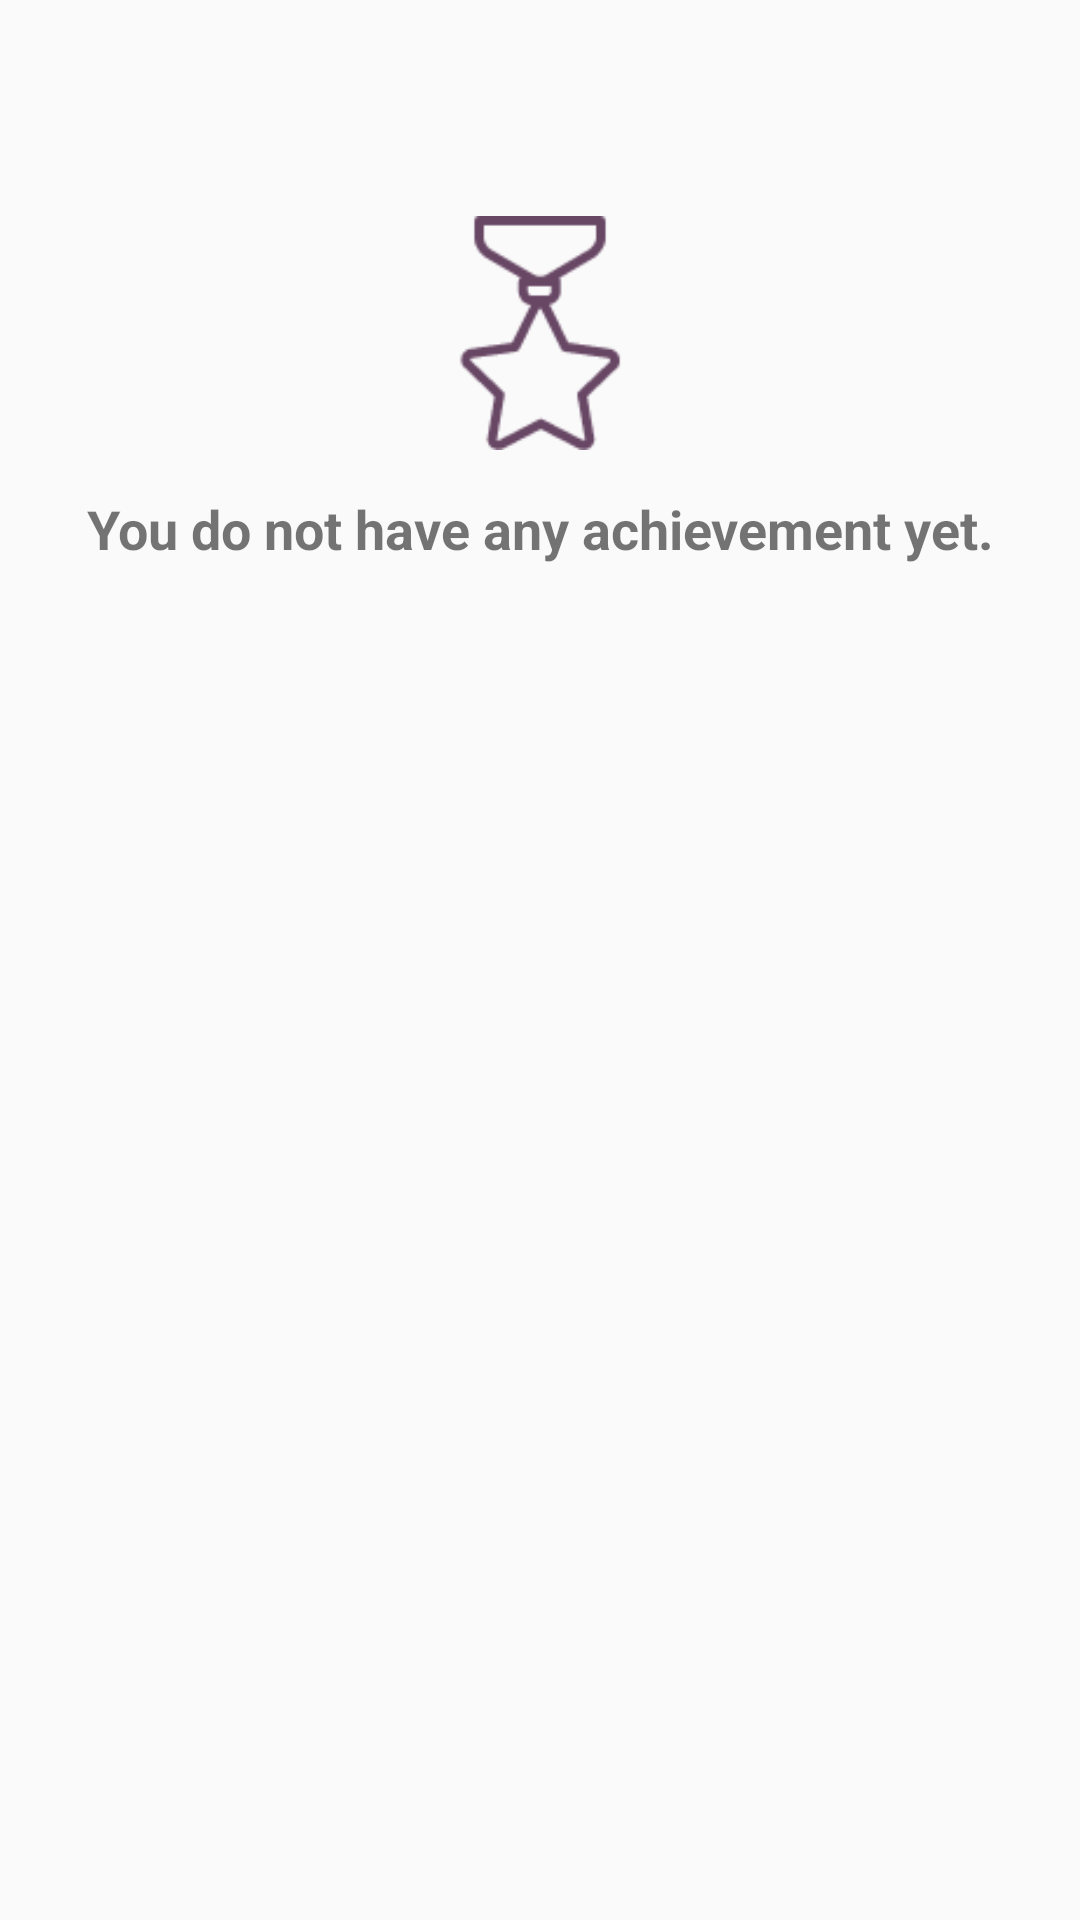

Icons on this 1080*1920 Android screen, each with its box as box(x1, y1, x2, y2):
medal: box(460, 216, 620, 450)
